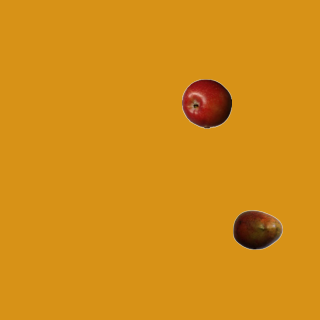Apple Braeburn: (181, 78, 231, 128)
Mango Red: (232, 204, 282, 254)
